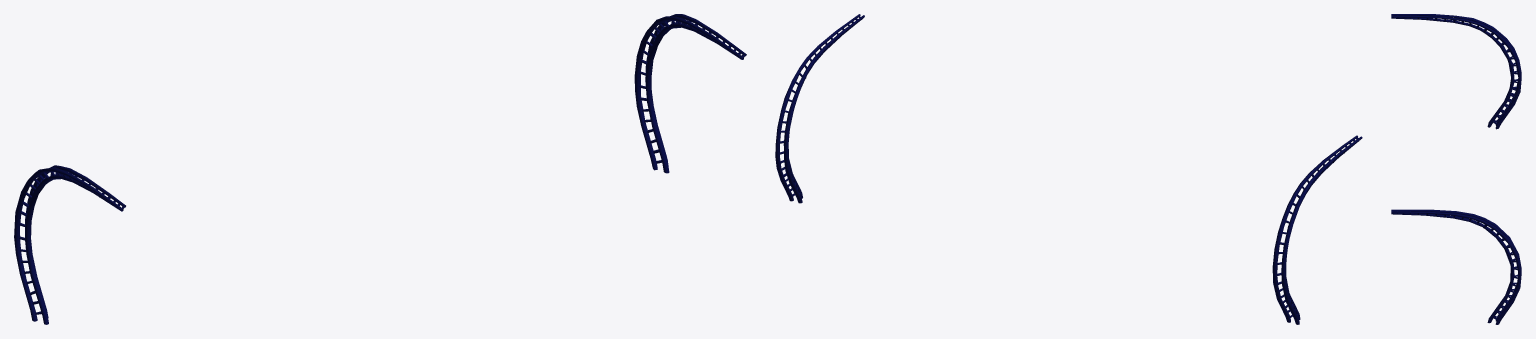
The model's file is Al_Nasar_Football_Stadium_NurbsPath_006.FBX.
The picture shows the model from 3 angles, left to right: view 1: azimuth 30°, elevation 25°; view 2: azimuth 150°, elevation 25°; view 3: azimuth 270°, elevation 25°; orthographic projection. The views are drawn at different scales.
Parts seen in each view (by area): view 1: Al_Nasar_Football_Stadium_NurbsPath_006; view 2: Al_Nasar_Football_Stadium_NurbsPath_006; view 3: Al_Nasar_Football_Stadium_NurbsPath_006.
Boxes of the visible parts, bbox=[...] form: Al_Nasar_Football_Stadium_NurbsPath_006: bbox=[14, 14, 746, 324]; Al_Nasar_Football_Stadium_NurbsPath_006: bbox=[775, 14, 1362, 324]; Al_Nasar_Football_Stadium_NurbsPath_006: bbox=[1391, 14, 1521, 324].
Bounding box in the file's own units: 14856 × 4086 × 3870.
